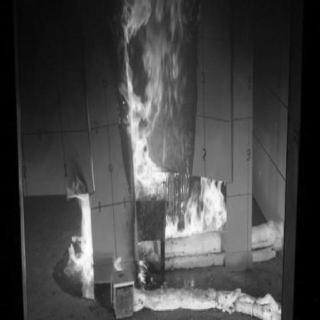Fire: (116, 3, 232, 253), (111, 250, 125, 276)
